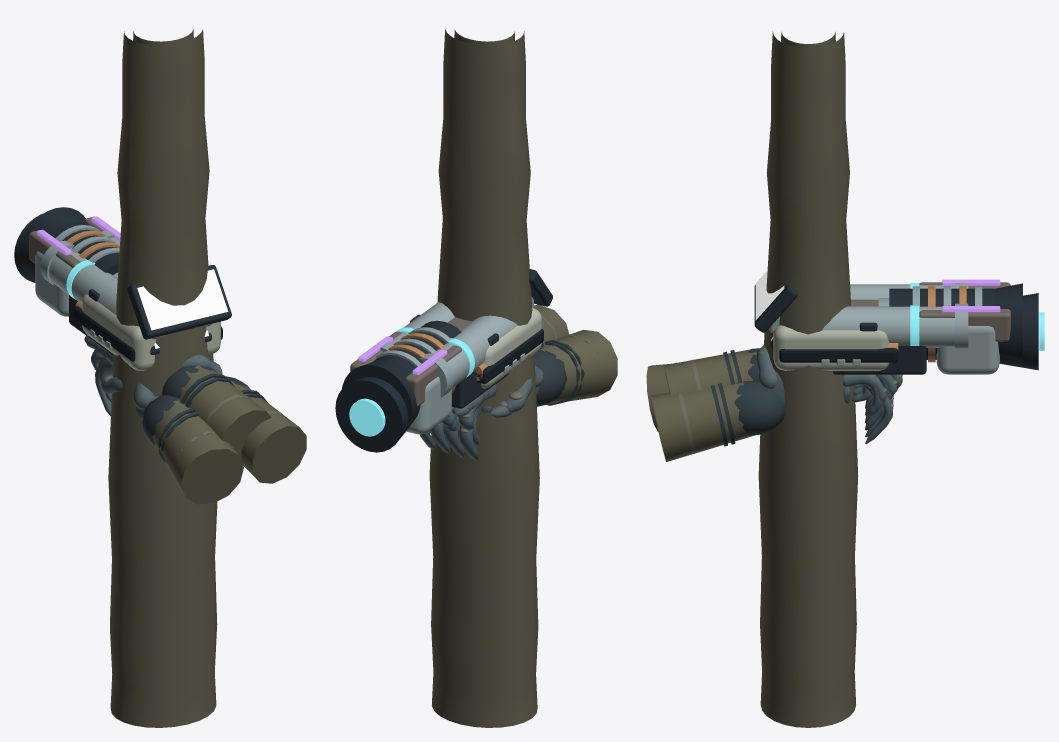
The model's file is touch_rig_assets.glb.
3 views of the same model, side by side, from view 1: azimuth 30°, elevation 25°; view 2: azimuth 150°, elevation 25°; view 3: azimuth 270°, elevation 25° (orthographic).
Size of the model in its own units: 0.1976 by 1 by 0.5353.
